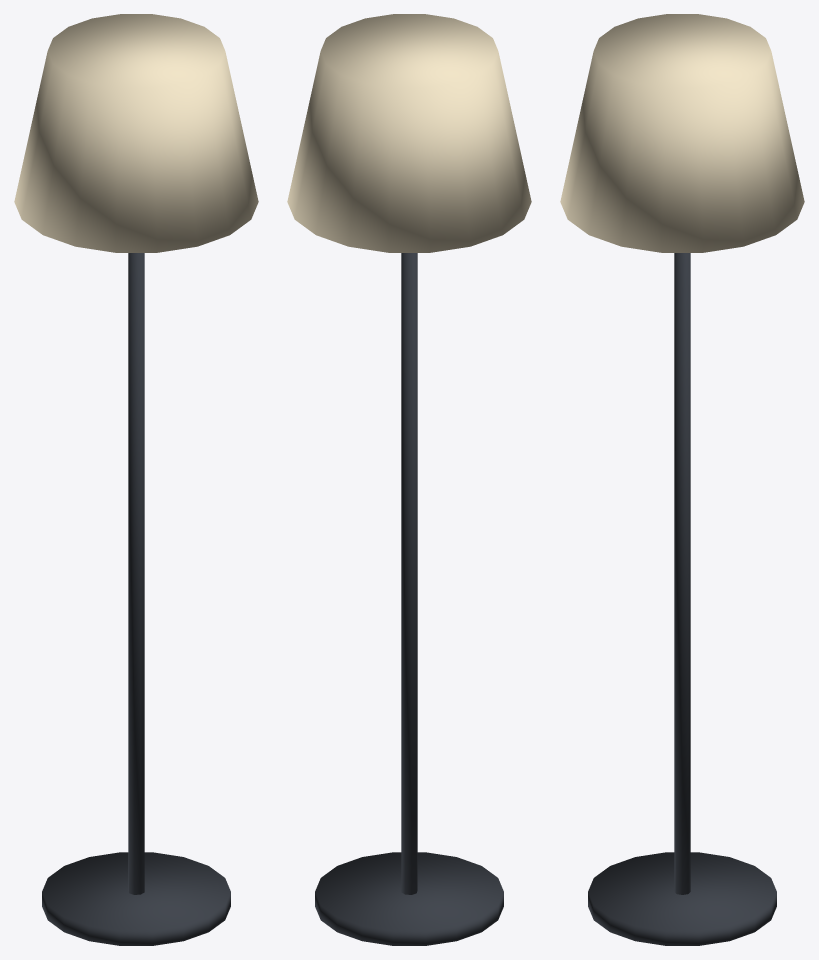
Rendered from FloorLamp.fbx.
3 renders of one model, left to right at view 1: azimuth 30°, elevation 25°; view 2: azimuth 150°, elevation 25°; view 3: azimuth 270°, elevation 25°, orthographic.
Parts seen in each view (by area): view 1: FloorLampBody; view 2: FloorLampBody; view 3: FloorLampBody.
Part boxes in pixels (x1,y1,x2,y2): FloorLampBody: (14,14,258,945); FloorLampBody: (287,14,531,945); FloorLampBody: (560,14,804,945).
Size of the model in its own units: 0.4333 by 1.7 by 0.44.
